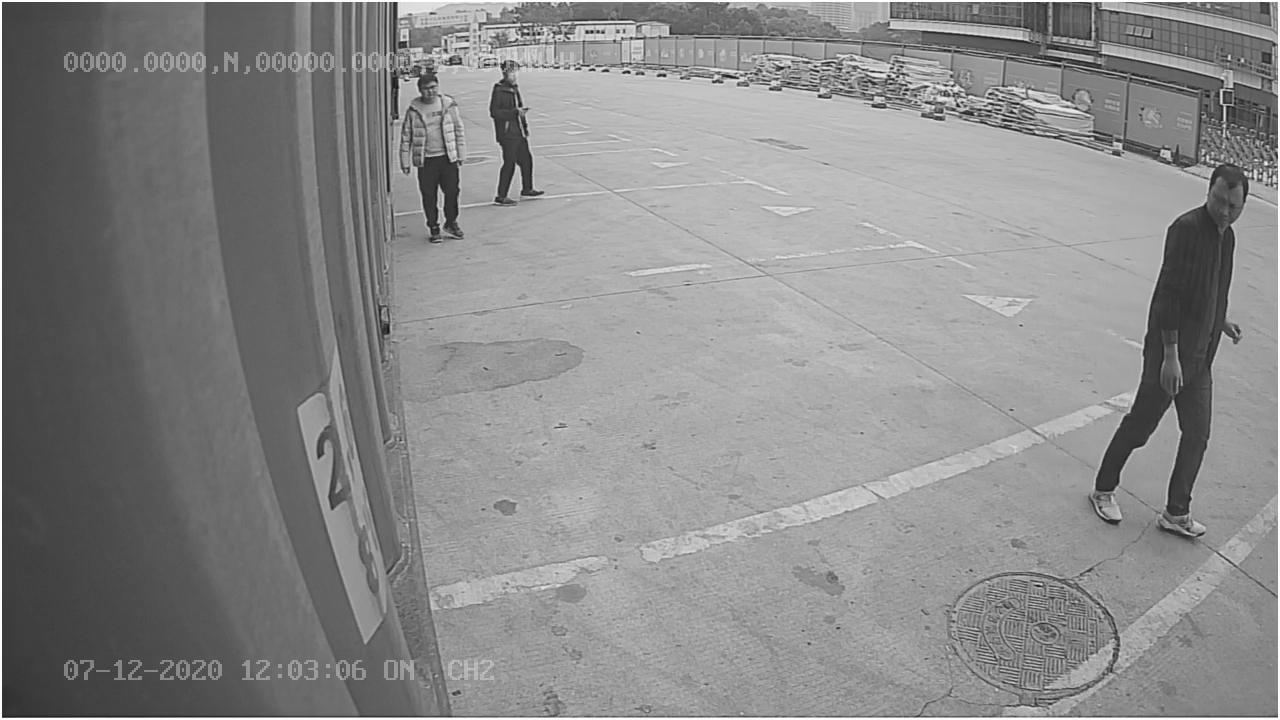person: (1080, 137, 1247, 541)
